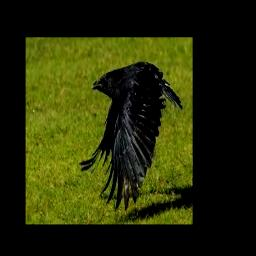Crow: (79, 61, 183, 211)
